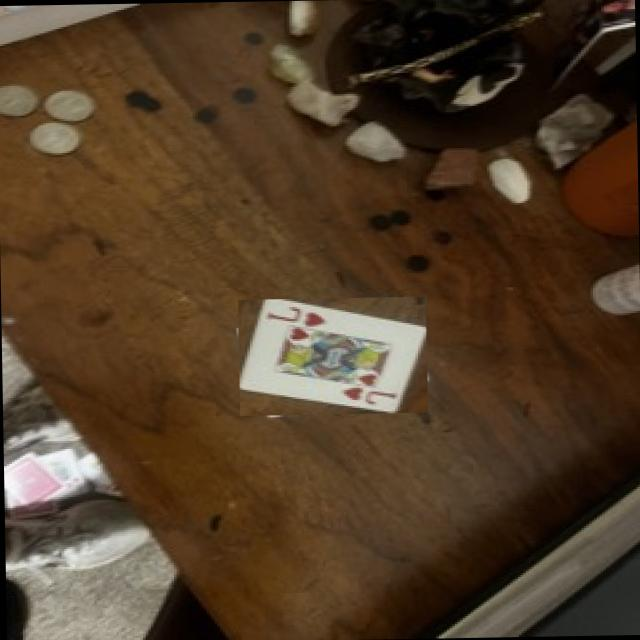Jack of hearts: (238, 300, 425, 412)
